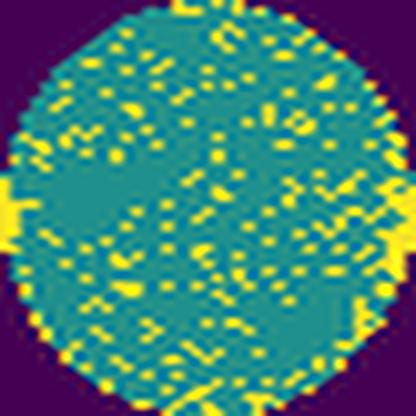Edge-Loc: (358, 154, 415, 349), (0, 167, 40, 258)
